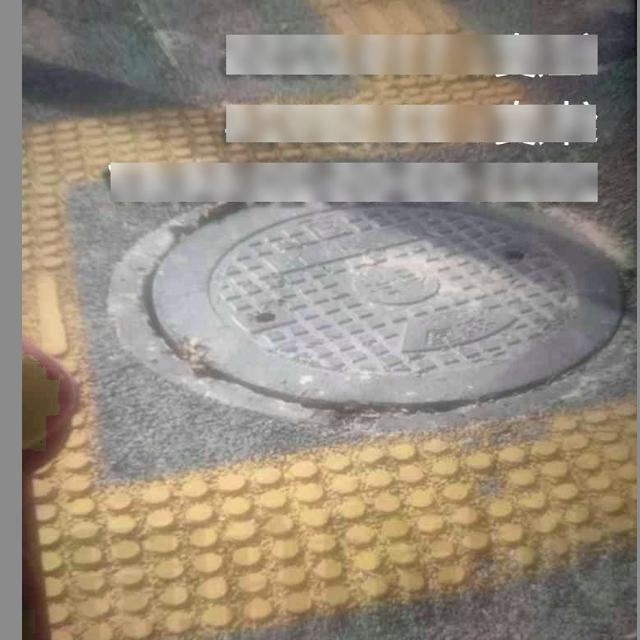good: (147, 188, 632, 405)
